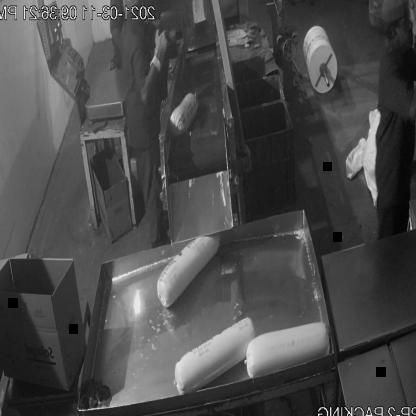glove: (150, 24, 174, 70)
